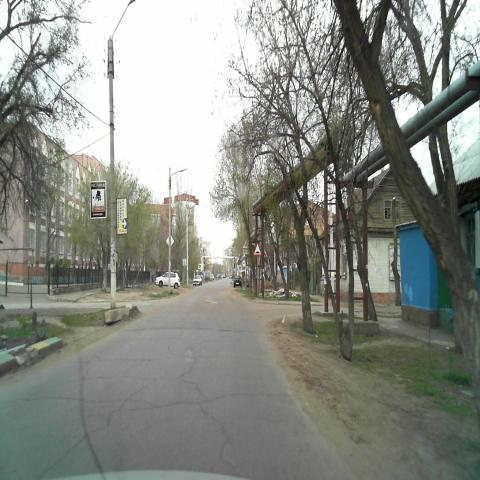1_17: (253, 242, 262, 256)
